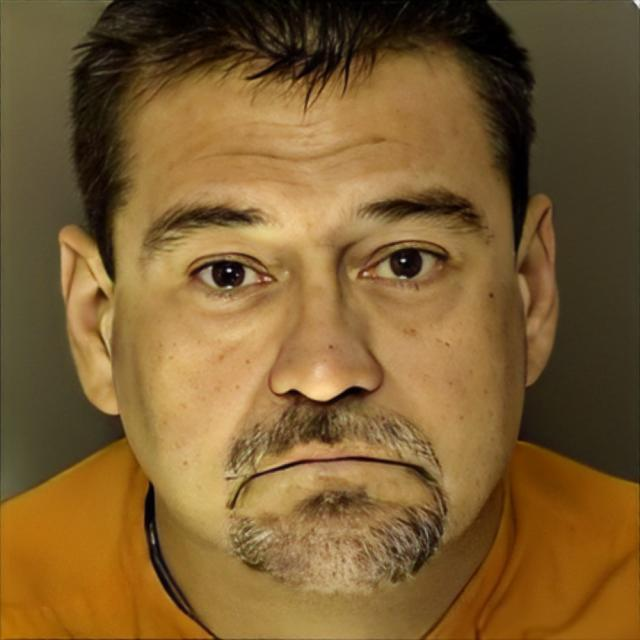sad: (113, 44, 528, 600)
